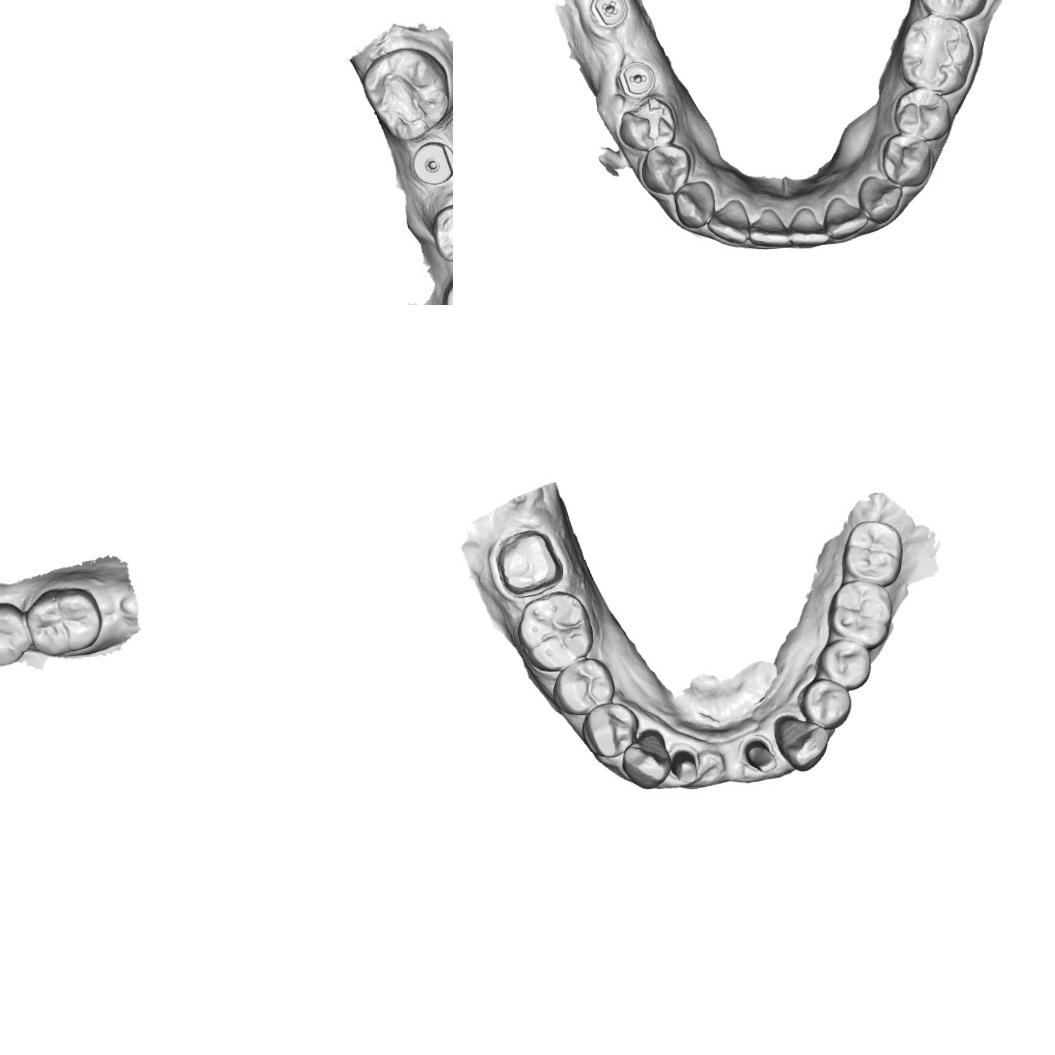abutment: (737, 734, 778, 774), (669, 748, 700, 785)
canine: (772, 714, 830, 773), (620, 728, 673, 790), (856, 174, 904, 225), (671, 178, 716, 230)
crown: (492, 528, 565, 600)
implant: (413, 138, 453, 188)
implant_minus: (614, 60, 656, 100)
implant_plus: (586, 0, 630, 30)
incisor: (706, 198, 752, 246), (822, 195, 869, 240), (786, 206, 830, 250), (746, 205, 790, 248)
molar: (366, 51, 453, 138), (516, 590, 594, 673), (898, 12, 974, 96), (24, 584, 104, 659), (826, 579, 894, 650), (838, 518, 904, 589), (0, 600, 33, 671), (917, 0, 992, 22)
premolar: (550, 656, 616, 716), (892, 85, 952, 144), (616, 95, 678, 152), (580, 700, 640, 758), (797, 676, 852, 732), (815, 638, 872, 692), (880, 133, 933, 188), (638, 142, 692, 195), (438, 204, 453, 261)
